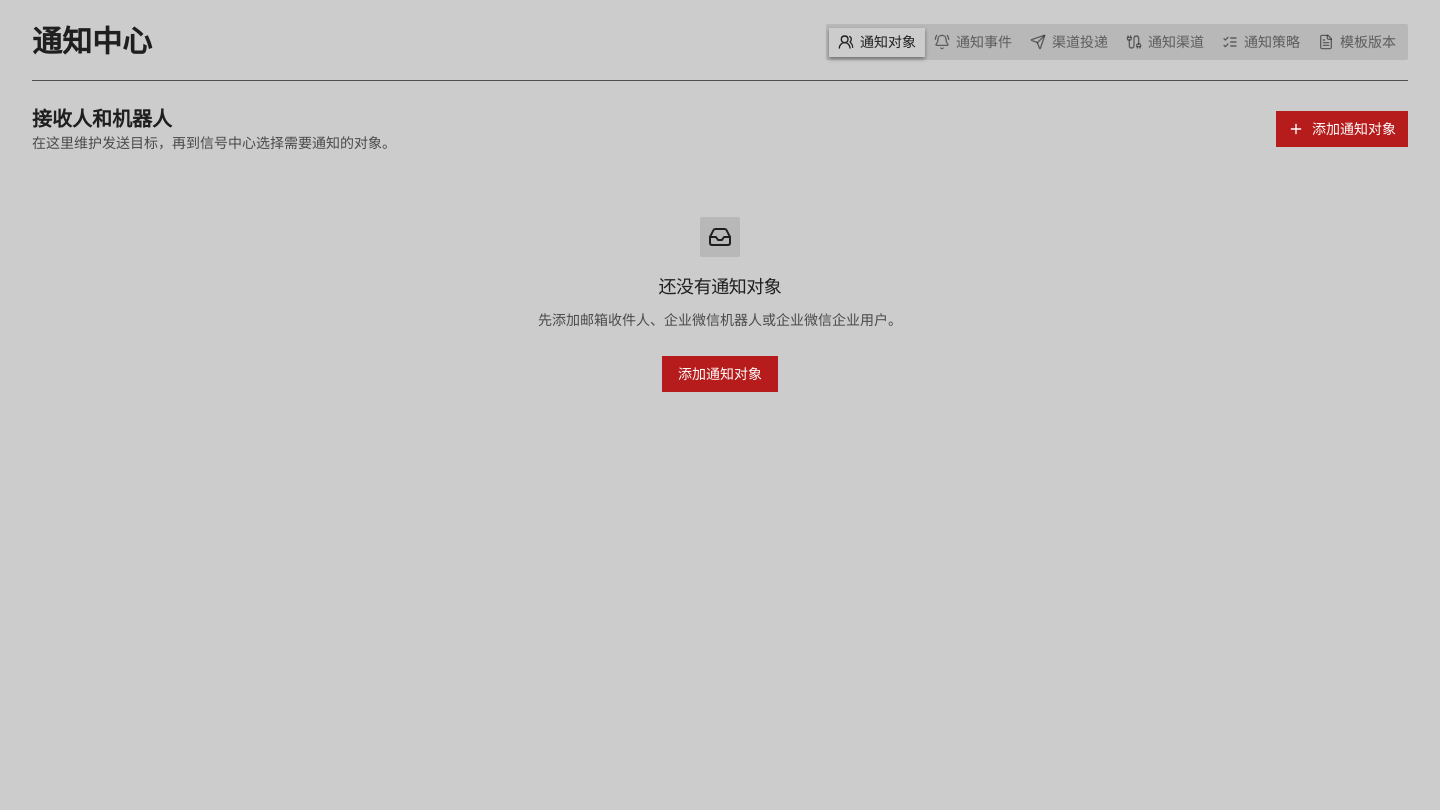
通知中心 › 默认管理通知对象并可选择邮箱或企业微信
Check: the text "还没有通知对象" is shown, box [659,273,782,301]
Click the button "添加通知对象" in the row of "在这里维护发送目标，再到信号中心选择需要通知的对象。": [1342, 129] box [1276,111,1408,147]
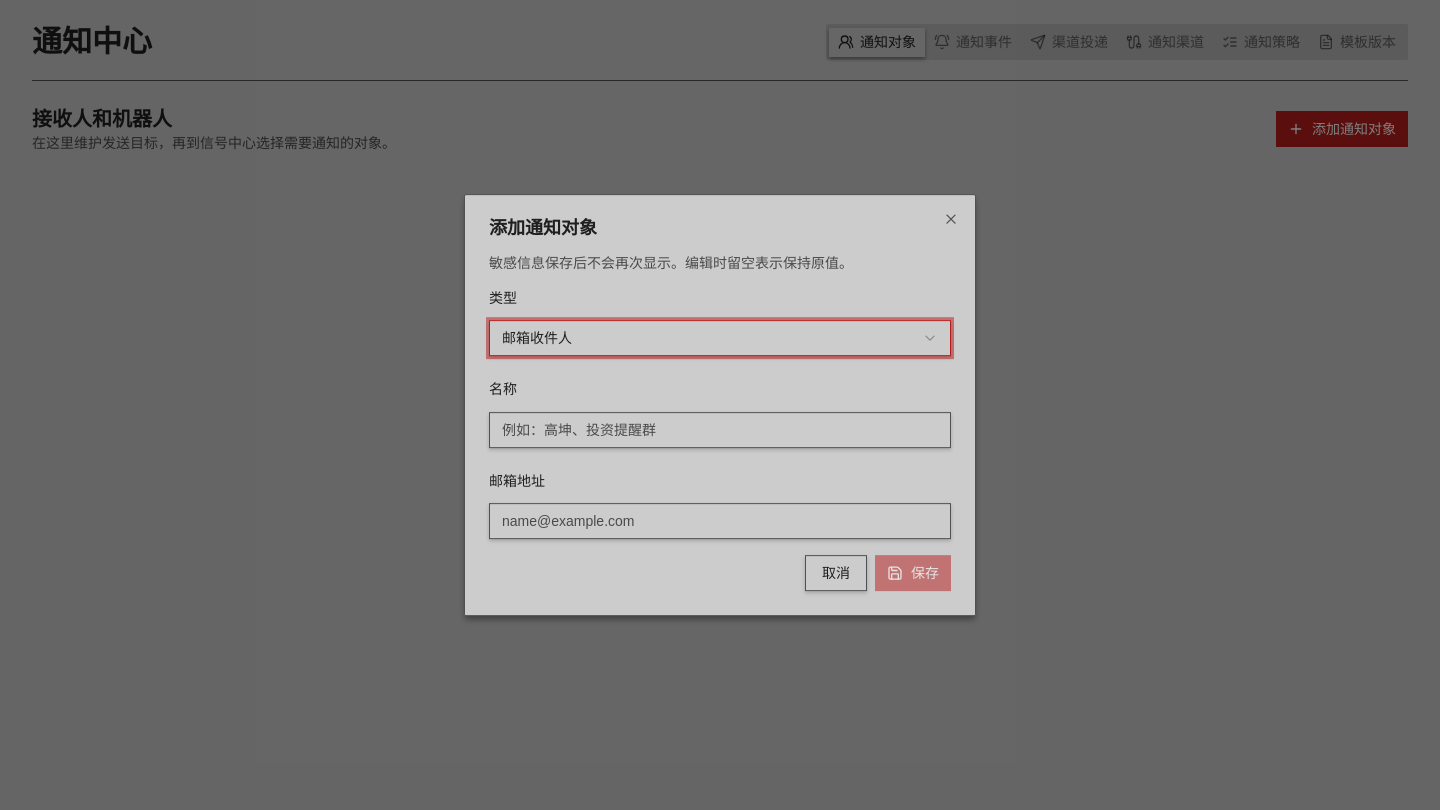
Check: the dialog is shown, box [464,194,976,616]
Check: the field labelled "名称" is shown, box [489,412,951,448]
Check: the field labelled "邮箱地址" is shown, box [489,503,951,539]
